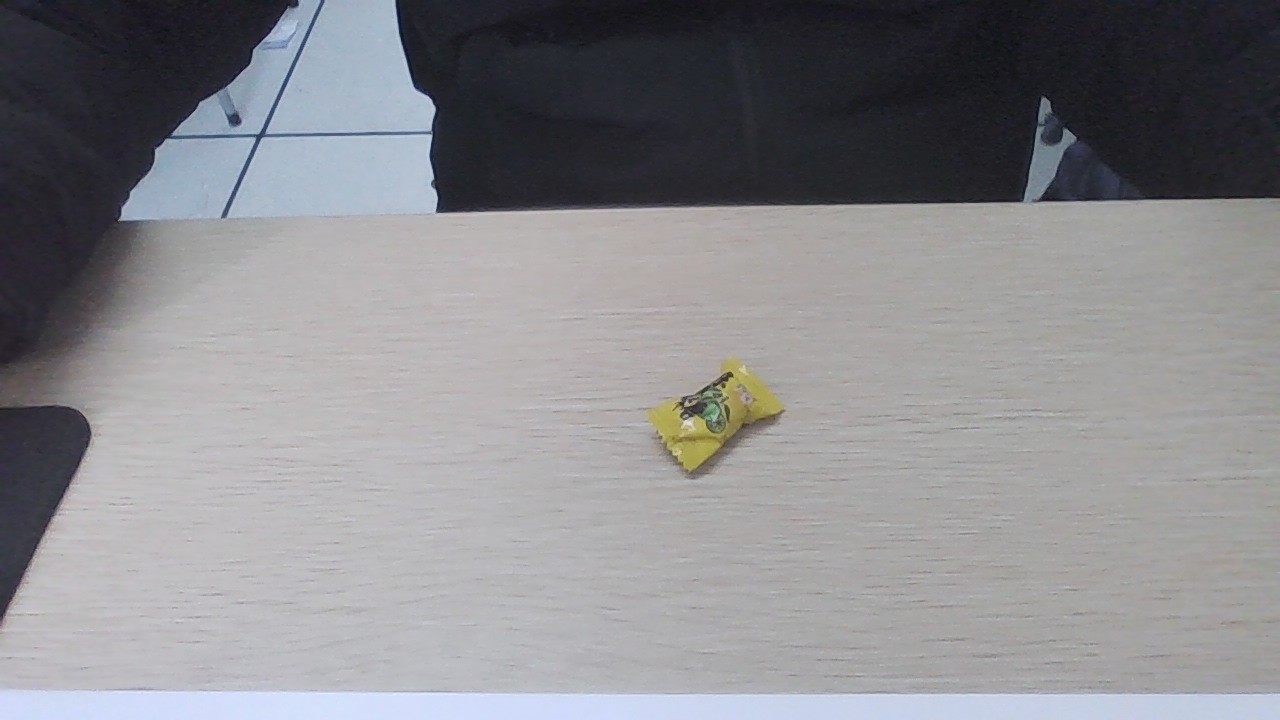CY-sugar: (666, 373, 755, 466)
